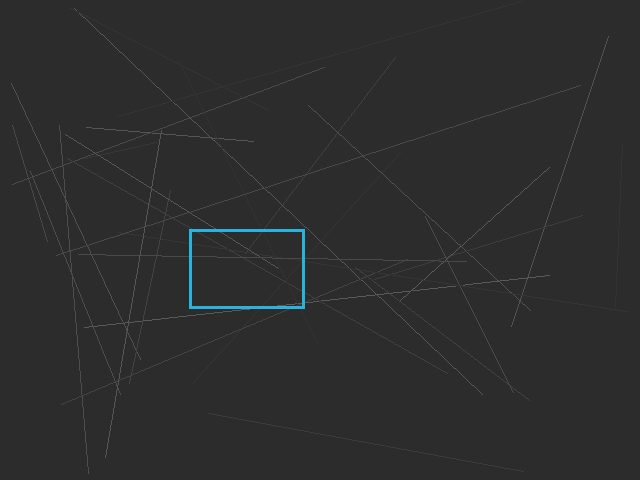D10: (189, 229, 304, 308)
